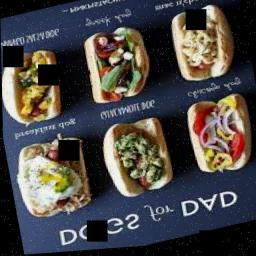hotdog: (14, 132, 98, 228), (77, 19, 159, 112), (96, 113, 176, 207), (179, 91, 256, 186), (164, 1, 241, 92), (1, 42, 70, 134)
